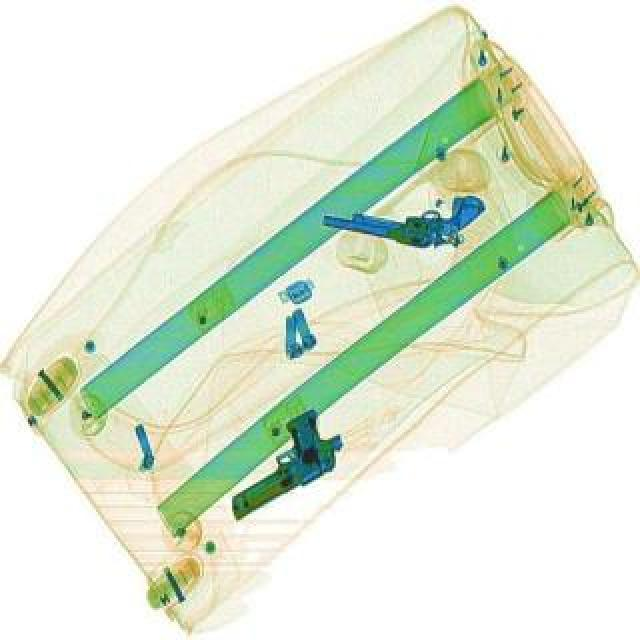gun: (202, 402, 356, 522), (322, 168, 490, 256)
